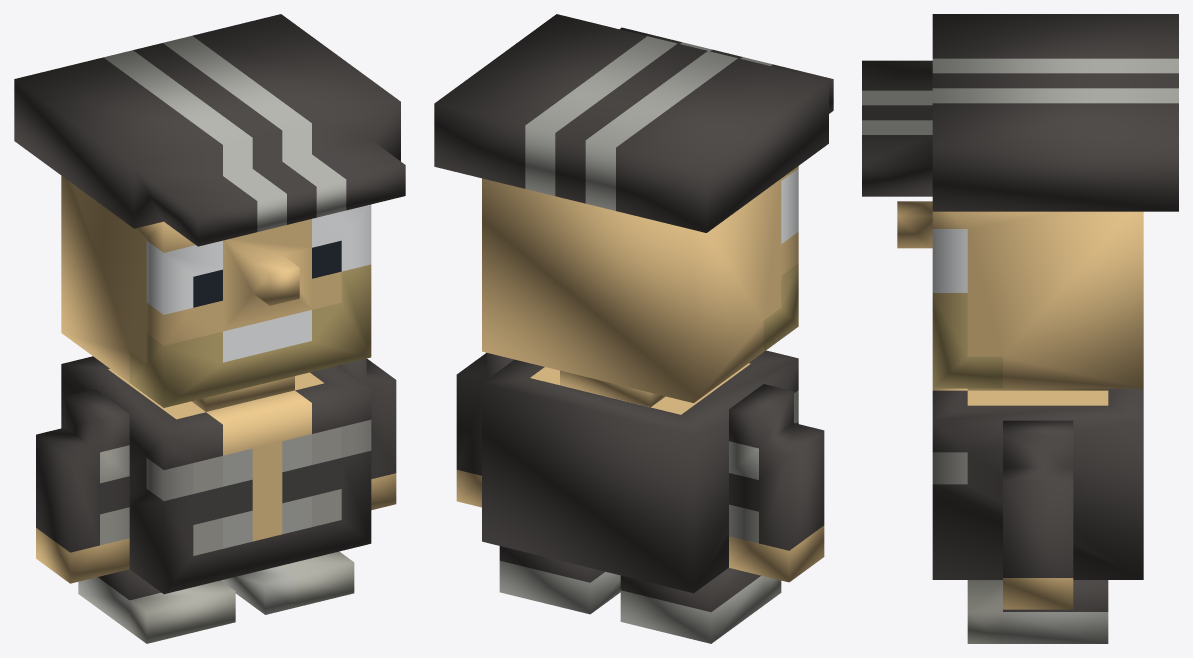
The model's file is BandPlayer1.fbx.
3 renders of one model, left to right at view 1: azimuth 30°, elevation 25°; view 2: azimuth 150°, elevation 25°; view 3: azimuth 270°, elevation 25°, orthographic. The views are drawn at different scales.
Parts seen in each view (by area): view 1: Hat, Head, Body, LeftArm, LeftFoot, RightFoot, RightArm, Neck; view 2: Hat, Head, Body, LeftArm, LeftFoot, RightFoot, RightArm, Neck; view 3: Hat, Head, Body, RightArm, RightFoot.
Boxes of the visible parts, left/top/right/bottom form: Hat: left=14, top=14, right=405, bottom=246; Head: left=61, top=176, right=371, bottom=407; Body: left=61, top=356, right=371, bottom=594; LeftArm: left=36, top=389, right=129, bottom=583; LeftFoot: left=78, top=569, right=235, bottom=643; RightFoot: left=221, top=551, right=354, bottom=614; RightArm: left=339, top=358, right=396, bottom=510; Neck: left=192, top=376, right=294, bottom=411; Hat: left=434, top=14, right=833, bottom=232; Head: left=482, top=166, right=798, bottom=403; Body: left=482, top=350, right=798, bottom=593; LeftArm: left=729, top=384, right=824, bottom=582; LeftFoot: left=620, top=568, right=781, bottom=643; RightFoot: left=499, top=546, right=620, bottom=614; RightArm: left=456, top=352, right=514, bottom=507; Neck: left=560, top=370, right=665, bottom=407; Hat: left=862, top=14, right=1178, bottom=211; Head: left=897, top=201, right=1143, bottom=388; Body: left=932, top=388, right=1143, bottom=579; RightArm: left=1003, top=420, right=1073, bottom=609; RightFoot: left=967, top=580, right=1108, bottom=643.
Bounding box in the file's own units: 110 × 160 × 90.
